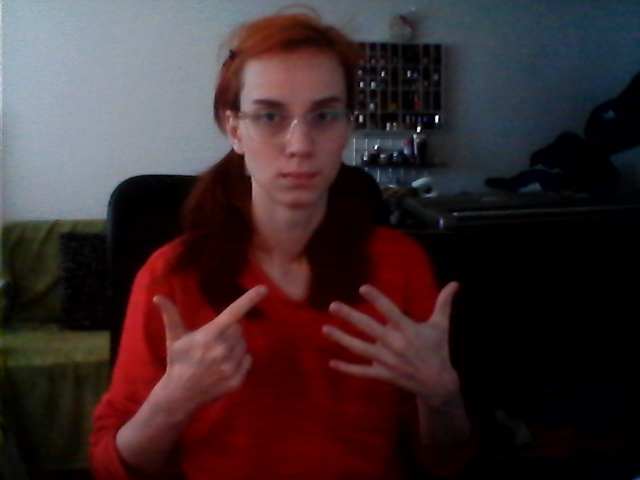sedem: (148, 272, 471, 405)
